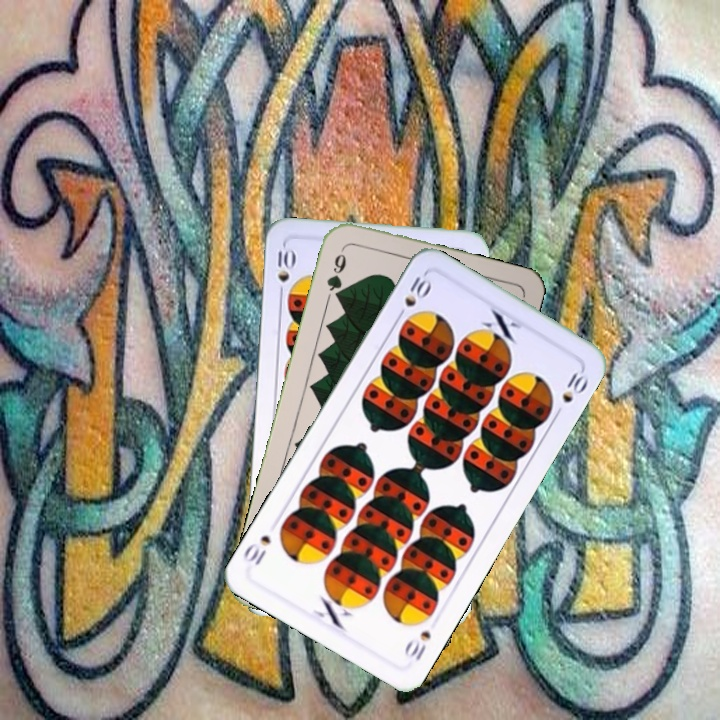G9: (322, 249, 349, 304)
S10: (392, 272, 434, 323), (400, 626, 434, 664), (274, 244, 296, 301)
